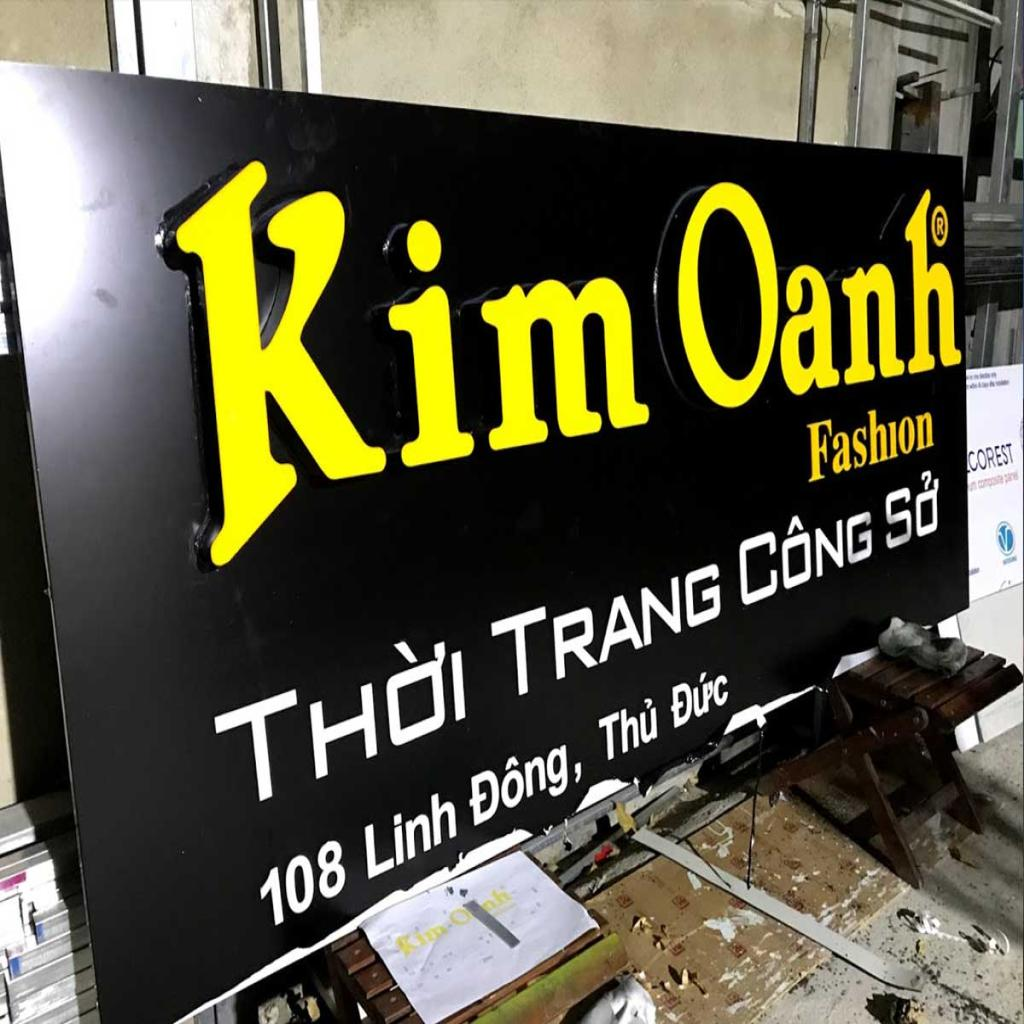text: (160, 139, 654, 581), (666, 176, 966, 430), (211, 614, 469, 822), (489, 550, 724, 710), (736, 492, 876, 616), (466, 724, 587, 838), (802, 395, 936, 487), (361, 783, 460, 886), (254, 833, 352, 934), (884, 464, 943, 556), (595, 688, 660, 767), (668, 659, 733, 735), (394, 915, 452, 961), (968, 440, 1016, 476), (476, 881, 513, 916), (447, 904, 475, 932), (934, 214, 946, 241)
